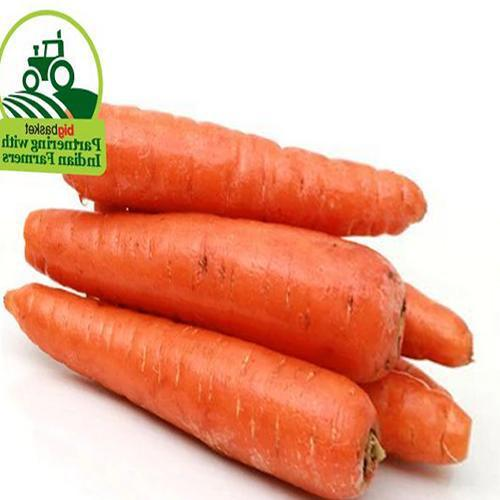carrot: (102, 194, 483, 489), (0, 265, 394, 500), (16, 193, 422, 377)
